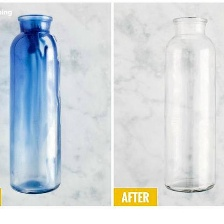bottle: (6, 10, 65, 199), (160, 14, 219, 195)
